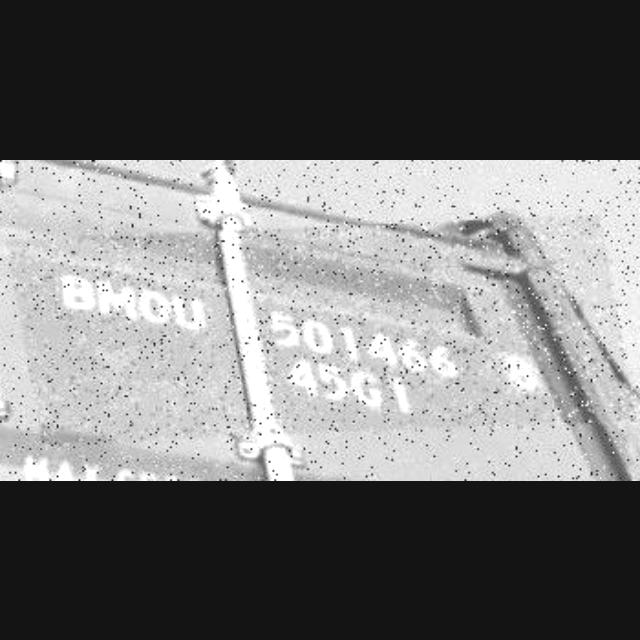0: (302, 308, 334, 360)
1: (388, 378, 414, 420), (339, 322, 361, 366)
4: (282, 358, 318, 404), (368, 326, 398, 372)
5: (268, 304, 302, 352), (317, 360, 345, 406)
6: (398, 328, 428, 378), (428, 338, 460, 382)
8: (500, 350, 534, 402)
b: (52, 268, 96, 316)
g: (347, 368, 383, 412)
m: (96, 268, 138, 324)
o: (139, 282, 171, 326)
u: (173, 289, 204, 339)
